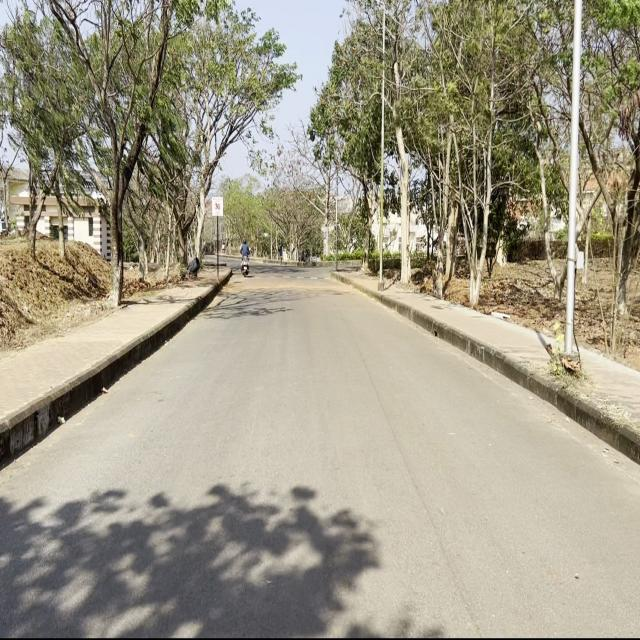Object: (239, 237, 252, 281)
Road: (3, 264, 638, 634)
